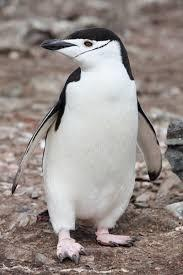chinstrap: (10, 29, 162, 256)
